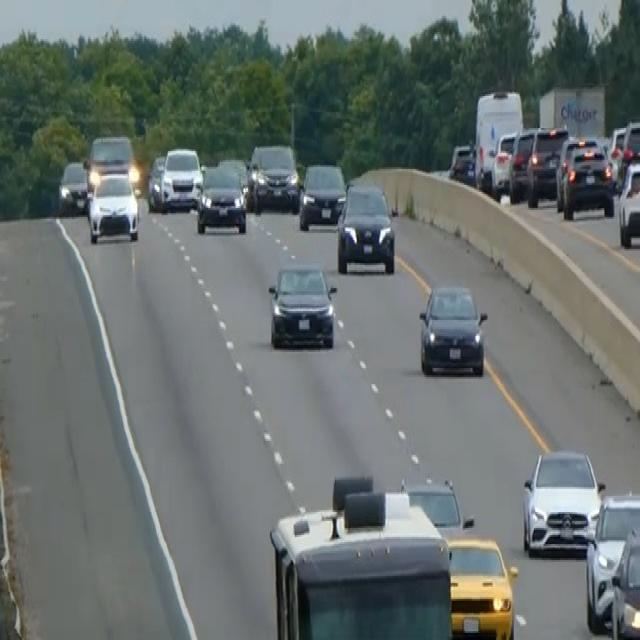bus: (267, 473, 456, 638)
car: (521, 444, 604, 556), (584, 489, 639, 633), (444, 534, 518, 638), (417, 279, 488, 377), (267, 260, 337, 350), (336, 180, 396, 274), (559, 137, 614, 220), (402, 476, 474, 537), (86, 169, 139, 243), (195, 162, 247, 234), (248, 140, 299, 212), (526, 123, 568, 206), (609, 524, 639, 638), (85, 132, 138, 196), (298, 160, 346, 229), (160, 144, 202, 212), (508, 125, 538, 202), (617, 155, 639, 247), (490, 128, 518, 197), (217, 155, 253, 208), (57, 158, 88, 214), (447, 140, 476, 185), (146, 153, 165, 210), (620, 117, 639, 167)
minibus: (471, 84, 524, 192)
